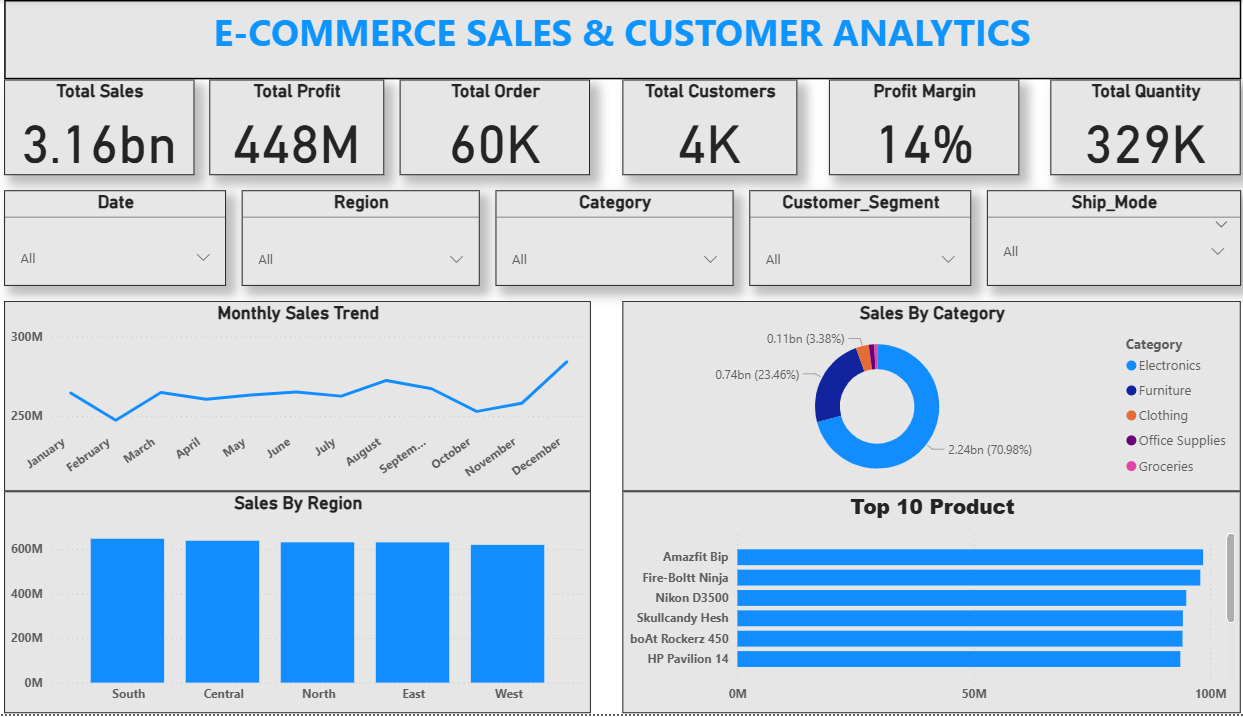

What the dashboard file says about the page in this screenshot:
{"tool":"powerbi","page":{"name":"Page 1","canvas":[1280,720],"ordinal":0},"visuals":[{"type":"card","title":"Total Sales","fields":{"Values":["Ecommerce_Data.Total Sales"]},"box":[16,80,192,96],"z":0},{"type":"card","title":"Total Order","fields":{"Values":["Ecommerce_Data.Total Order"]},"box":[416,80,192,96],"z":1000},{"type":"card","title":"Total Customers","fields":{"Values":["Ecommerce_Data.Total Customer"]},"box":[640,80,176,96],"z":2000},{"type":"card","title":"Total Quantity","fields":{"Values":["Ecommerce_Data.Total Quantity"]},"box":[1072,80,192,96],"z":3000},{"type":"card","title":"Profit Margin","fields":{"Values":["Ecommerce_Data.Profit Margin"]},"box":[848,80,192,96],"z":4000},{"type":"card","title":"Total Profit","fields":{"Values":["Ecommerce_Data.Total Profit"]},"box":[224,80,176,96],"z":5000},{"type":"slicer","title":"Date","fields":{"Values":["Ecommerce_Data.Order_Date"]},"box":[16,192,224,96],"z":6000},{"type":"slicer","title":"Region","fields":{"Values":["Ecommerce_Data.Region"]},"box":[256,192,240,96],"z":7000},{"type":"slicer","title":"Category","fields":{"Values":["Ecommerce_Data.Category"]},"box":[512,192,240,96],"z":8000},{"type":"slicer","title":"Customer_Segment","fields":{"Values":["Ecommerce_Data.Customer_Segment"]},"box":[768,192,224,96],"z":9000},{"type":"slicer","title":"Ship_Mode","fields":{"Values":["Ecommerce_Data.Ship_Mode"]},"box":[1008,192,256,96],"z":10000},{"type":"lineChart","title":"Monthly Sales Trend","fields":{"Category":["Ecommerce_Data.Order_Date.Variation.Date Hierarchy.Month"],"Y":["Ecommerce_Data.Total Sales"]},"box":[16,304,592,192],"z":11000},{"type":"donutChart","title":"Sales By Category","fields":{"Category":["Ecommerce_Data.Category"],"Y":["Ecommerce_Data.Total Sales"]},"box":[640,304,624,192],"z":12000},{"type":"columnChart","title":"Sales By Region","fields":{"Y":["Ecommerce_Data.Total Sales"],"Category":["Ecommerce_Data.Region"]},"box":[16,496,592,224],"z":13000},{"type":"clusteredBarChart","title":"Top 10 Product","fields":{"Y":["Ecommerce_Data.Total Sales"],"Category":["Ecommerce_Data.Product_Name"]},"box":[640,496,624,224],"z":14000},{"type":"textbox","box":[16,0,1248,80],"z":15000}]}

Visuals, with their boxes in screenshot pixels (x1, y1, x2, y2), scaled from the page's 1280x720 canvas onto the 1243x717 screenshot:
"Total Sales" card: 16:80:202:175
"Total Order" card: 404:80:590:175
"Total Customers" card: 622:80:792:175
"Total Quantity" card: 1041:80:1227:175
"Profit Margin" card: 823:80:1010:175
"Total Profit" card: 218:80:388:175
"Date" slicer: 16:191:233:287
"Region" slicer: 249:191:482:287
"Category" slicer: 497:191:730:287
"Customer_Segment" slicer: 746:191:963:287
"Ship_Mode" slicer: 979:191:1227:287
"Monthly Sales Trend" lineChart: 16:303:590:494
"Sales By Category" donutChart: 622:303:1227:494
"Sales By Region" columnChart: 16:494:590:716
"Top 10 Product" clusteredBarChart: 622:494:1227:716
textbox: 16:0:1227:80
